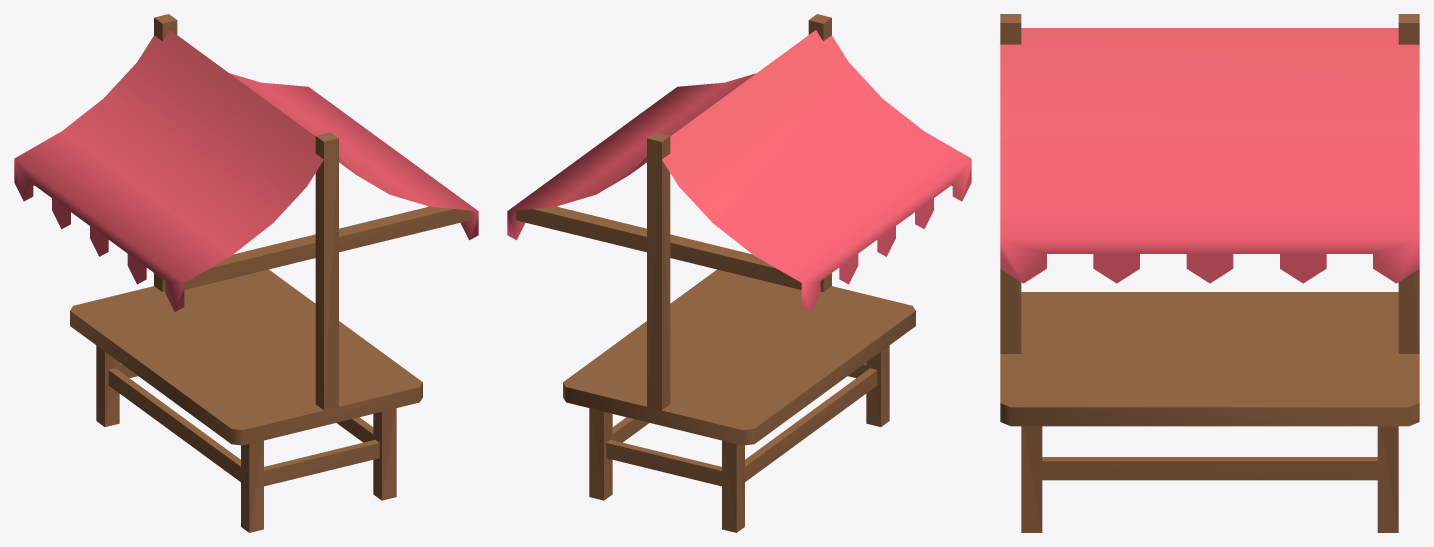
Rendered from kenney_town_stall_red.glb.
The picture shows the model from 3 angles, left to right: view 1: azimuth 30°, elevation 25°; view 2: azimuth 150°, elevation 25°; view 3: azimuth 270°, elevation 25°; orthographic projection. The views are drawn at different scales.
Parts seen in each view (by area): view 1: wood, cloth; view 2: wood, cloth; view 3: cloth, wood.
Boxes of the visible parts, x1=… form: wood: x1=33, y1=14, x2=469, y2=532; cloth: x1=14, y1=30, x2=478, y2=311; wood: x1=516, y1=14, x2=952, y2=532; cloth: x1=507, y1=30, x2=971, y2=311; cloth: x1=1000, y1=28, x2=1419, y2=283; wood: x1=1000, y1=14, x2=1419, y2=532.
Size of the model in its own units: 1 by 1.24 by 1.
